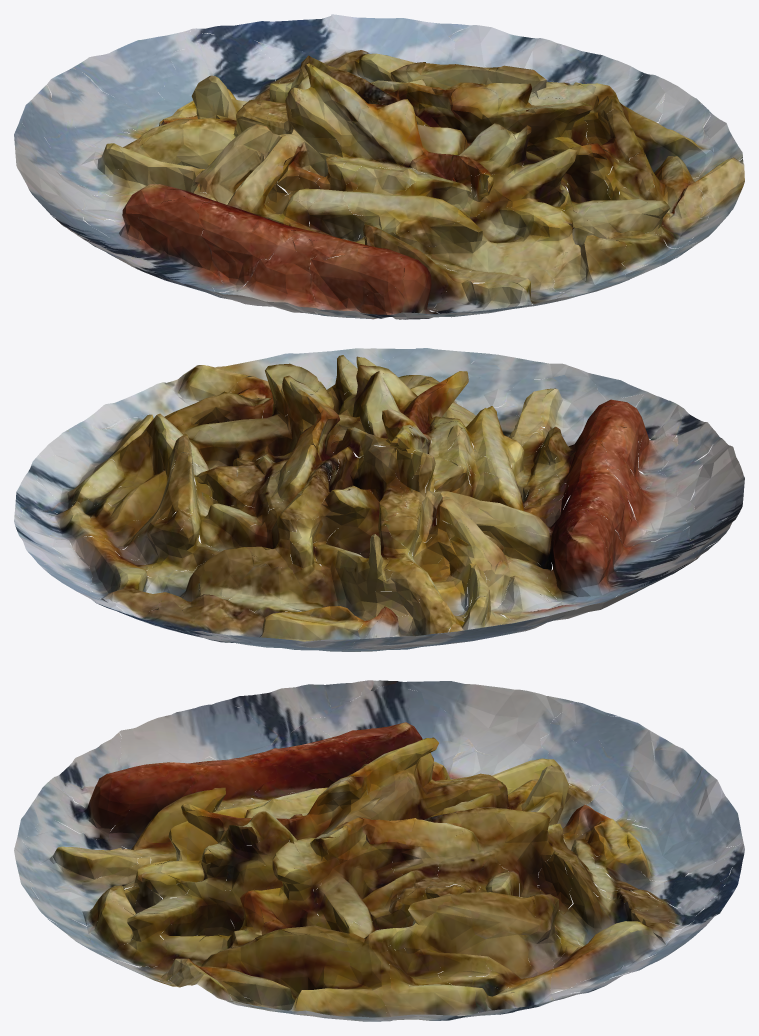
The model's file is salchipapa-2.glb.
3 views of the same model, one above another, from view 1: azimuth 30°, elevation 25°; view 2: azimuth 150°, elevation 25°; view 3: azimuth 270°, elevation 25° (orthographic).
Visible parts, largest first — view 1: Mesh_0; view 2: Mesh_0; view 3: Mesh_0.
Part boxes in pixels (box(x1,y1,x2,y2)): Mesh_0: box(14, 14, 744, 319); Mesh_0: box(14, 348, 744, 651); Mesh_0: box(14, 680, 744, 1021).
Size of the model in its own units: 19.23 by 4.47 by 19.23.
2 materials, 2 textured.
